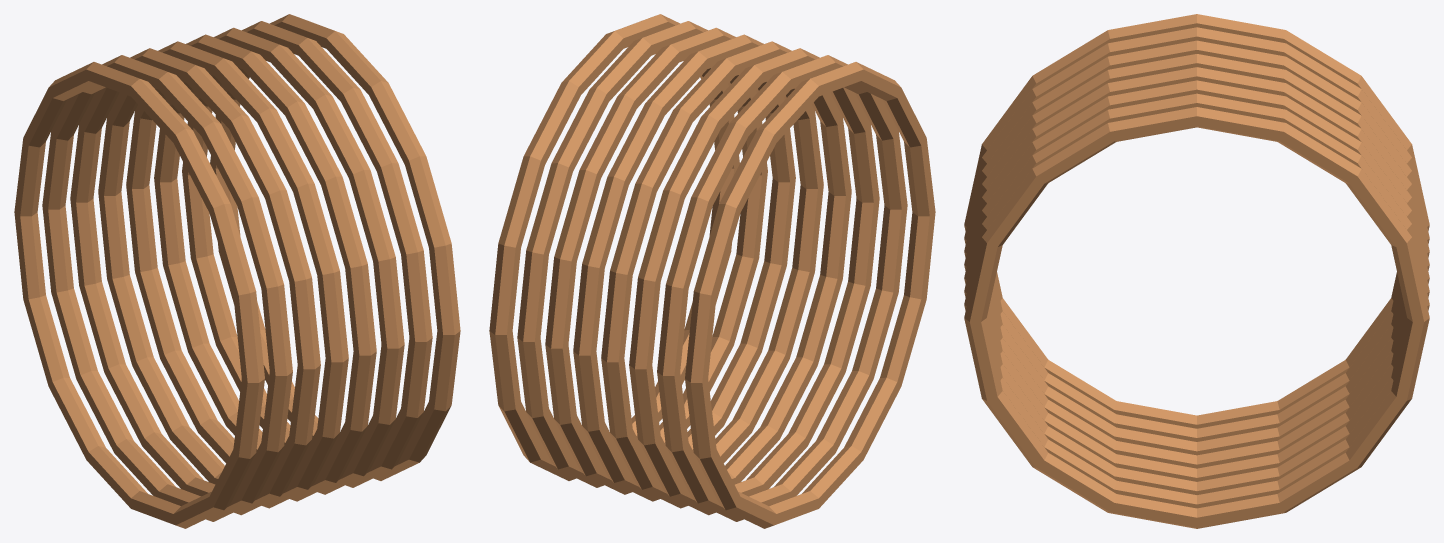
Rendered from wire-coil.glb.
The picture shows the model from 3 angles, left to right: view 1: azimuth 30°, elevation 25°; view 2: azimuth 150°, elevation 25°; view 3: azimuth 270°, elevation 25°; orthographic projection. The views are drawn at different scales.
Parts seen in each view (by area): view 1: ForgeCore item; view 2: ForgeCore item; view 3: ForgeCore item.
Part boxes in pixels (x1,y1,x2,y2): ForgeCore item: (14,14,460,528); ForgeCore item: (489,14,935,528); ForgeCore item: (964,14,1429,528).
Bounding box in the file's own units: 0.3703 × 0.72 × 0.72.
